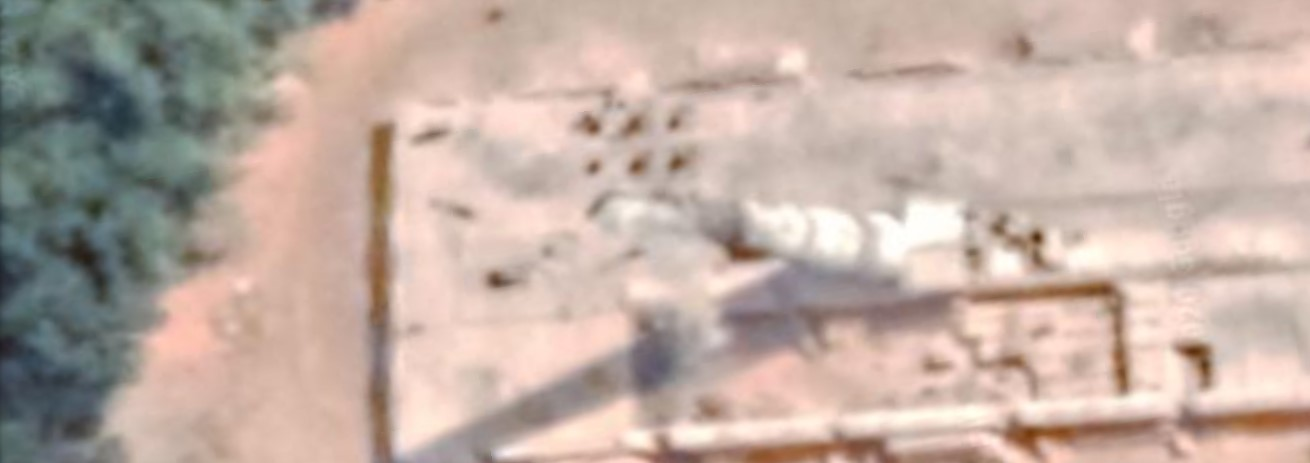kiln: (360, 56, 1304, 462)
